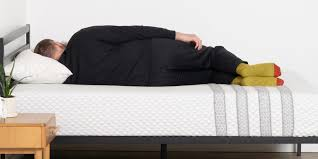bed-matress: (1, 71, 318, 141)
